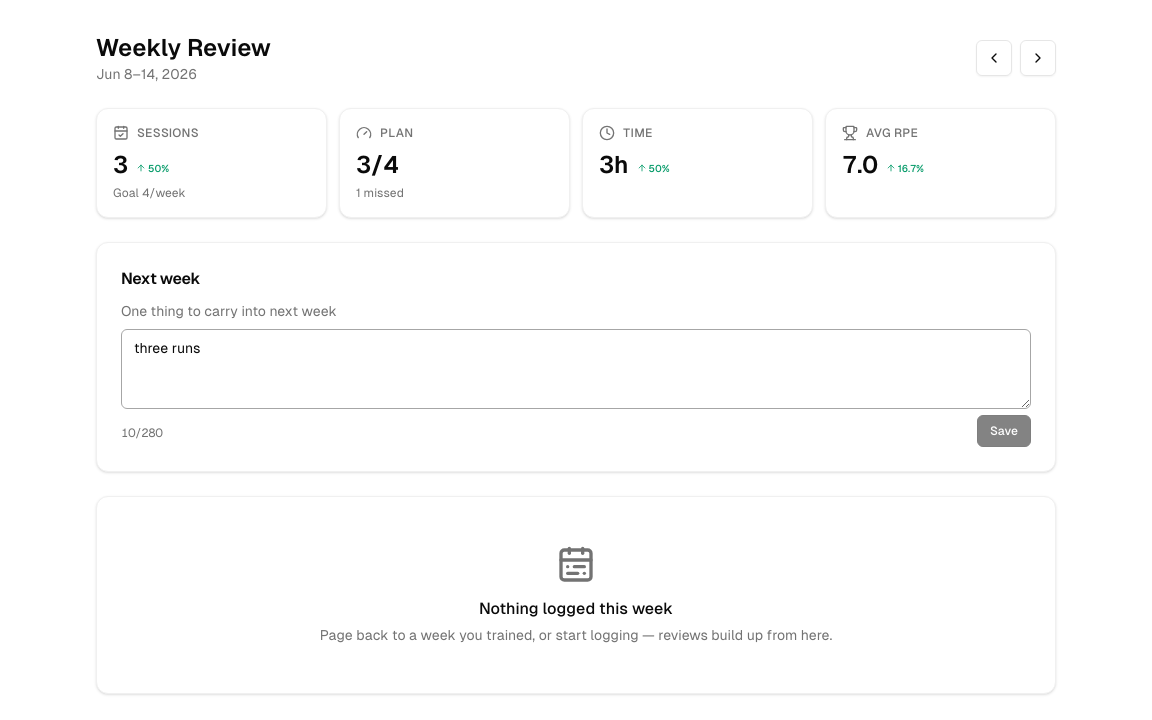
Test: Review page › next week's intent › keeps Save inert until the line actually changes
Expected: the button with test id "weekly-review-intent-save" is disabled, 977,415 -> 1031,447
In the text box with test id "weekly-review-intent-input": (576, 369) 121,329 -> 1031,409, type " and a swim"
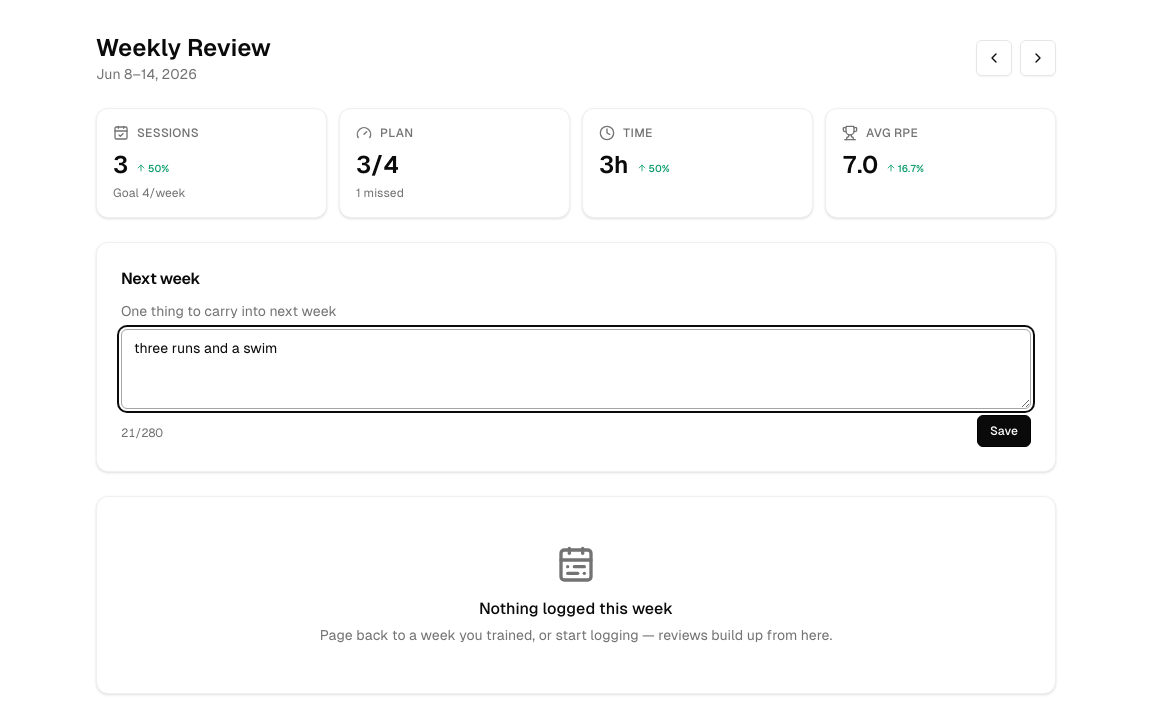
Now the button with test id "weekly-review-intent-save" is enabled, box 977,415 -> 1031,447
